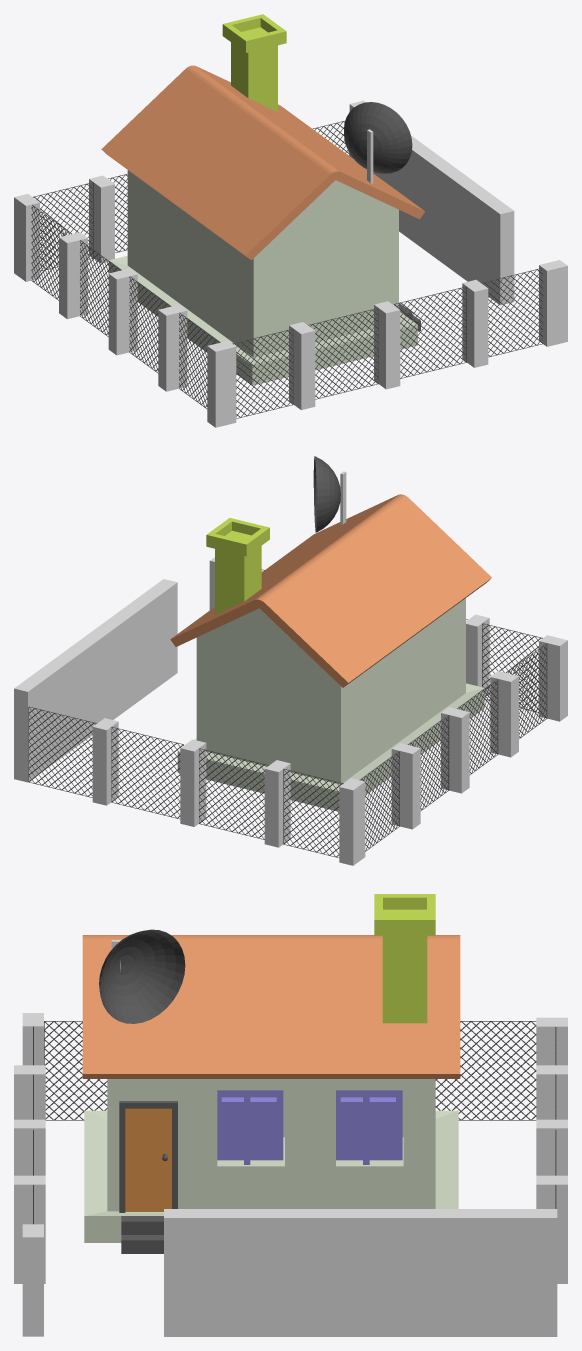
The model's file is Residencia.fbx.
The picture shows the model from 3 angles, top to bottom: view 1: azimuth 30°, elevation 25°; view 2: azimuth 150°, elevation 25°; view 3: azimuth 270°, elevation 25°; orthographic projection. The views are drawn at different scales.
Parts seen in each view (by area): view 1: Casa, Telhado, Cube.004, Chamine, Sphere, Plane.014, Cube.012, Plane.013, Cube.011, Cube.010, Cube, Cube.009 (+12 smaller); view 2: Casa, Telhado, Cube.004, Chamine, Plane.005, Plane.006, Plane.004, Cube.009, Cube.010, Cube.012, Cube.011, Cube.008 (+11 smaller); view 3: Cube.004, Telhado, Casa, Chamine, Porta, Sphere, Janela.001, Janela.002, Plane.008, Cube, Cube.015, Plane.011 (+7 smaller).
Part boxes in pixels (x1=…): Casa: x1=108, y1=170, x2=420, y2=385; Telhado: x1=101, y1=65, x2=424, y2=260; Cube.004: x1=349, y1=100, x2=514, y2=305; Chamine: x1=222, y1=14, x2=286, y2=111; Sphere: x1=344, y1=102, x2=412, y2=173; Plane.014: x1=394, y1=286, x2=466, y2=378; Cube.012: x1=207, y1=341, x2=236, y2=427; Plane.013: x1=308, y1=308, x2=378, y2=399; Cube.011: x1=158, y1=305, x2=187, y2=391; Cube.010: x1=108, y1=268, x2=137, y2=355; Cube: x1=539, y1=260, x2=567, y2=346; Cube.009: x1=59, y1=232, x2=87, y2=319; Casa: x1=177, y1=598, x2=484, y2=811; Telhado: x1=170, y1=494, x2=491, y2=687; Cube.004: x1=14, y1=579, x2=177, y2=782; Chamine: x1=206, y1=518, x2=269, y2=614; Plane.005: x1=111, y1=727, x2=183, y2=819; Plane.006: x1=199, y1=748, x2=268, y2=839; Plane.004: x1=28, y1=706, x2=96, y2=797; Cube.009: x1=391, y1=743, x2=420, y2=829; Cube.010: x1=441, y1=707, x2=469, y2=793; Cube.012: x1=539, y1=635, x2=567, y2=721; Cube.011: x1=490, y1=671, x2=518, y2=757; Cube.008: x1=339, y1=778, x2=365, y2=865; Cube.004: x1=164, y1=1209, x2=557, y2=1336; Telhado: x1=82, y1=935, x2=460, y2=1078; Casa: x1=84, y1=1079, x2=458, y2=1253; Chamine: x1=374, y1=894, x2=435, y2=1023; Porta: x1=119, y1=1101, x2=177, y2=1212; Sphere: x1=99, y1=929, x2=185, y2=1023; Janela.001: x1=336, y1=1090, x2=402, y2=1164; Janela.002: x1=217, y1=1090, x2=283, y2=1164; Plane.008: x1=435, y1=1021, x2=536, y2=1120; Cube: x1=22, y1=1224, x2=43, y2=1336; Cube.015: x1=14, y1=1175, x2=45, y2=1283; Plane.011: x1=44, y1=1021, x2=107, y2=1120.
Bounding box in the file's own units: 971 × 652 × 1012.
